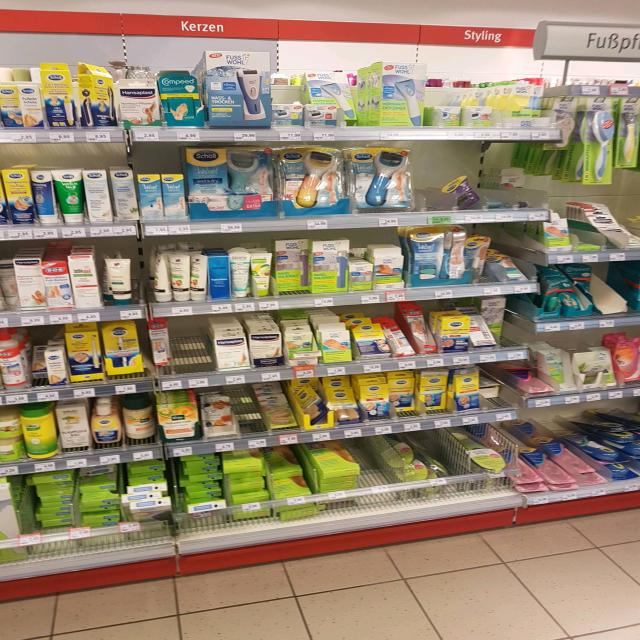void: (416, 145, 448, 226), (174, 316, 209, 390), (236, 388, 263, 452)
